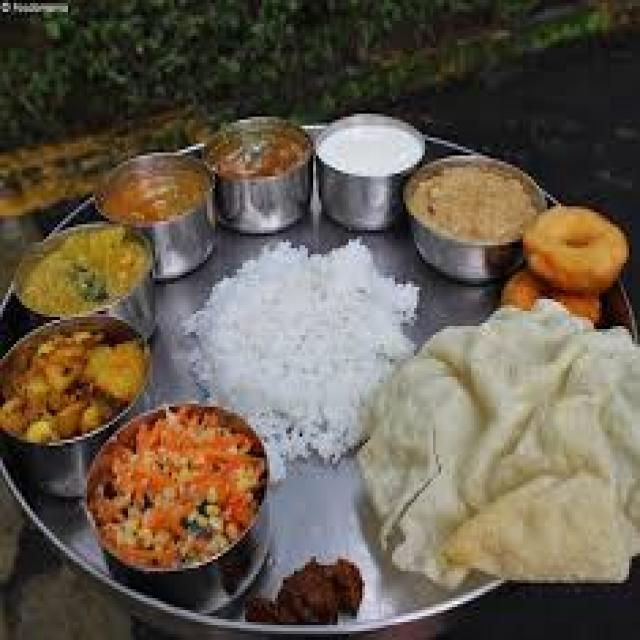curd: (323, 117, 421, 181)
dal: (5, 217, 159, 332), (94, 150, 215, 235)
papad: (420, 325, 640, 586)
rice: (205, 224, 395, 457)
sambar-rasam: (93, 150, 215, 232)
veg-fry: (82, 390, 266, 584), (0, 311, 154, 461)
